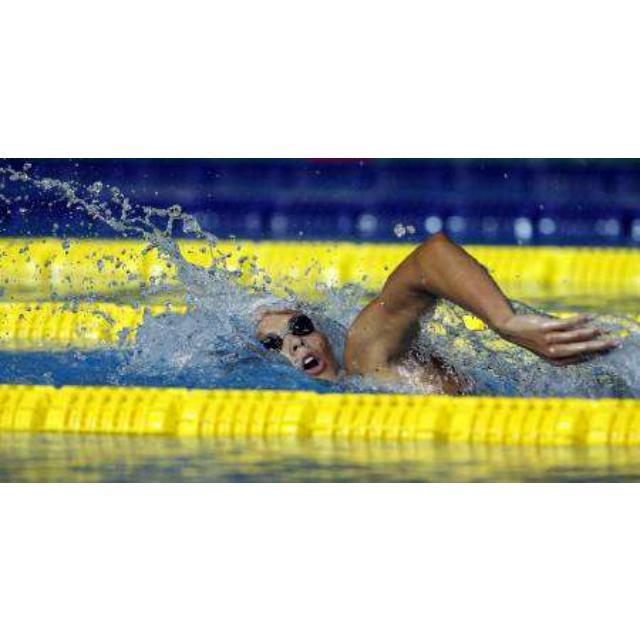human: (258, 230, 616, 387)
